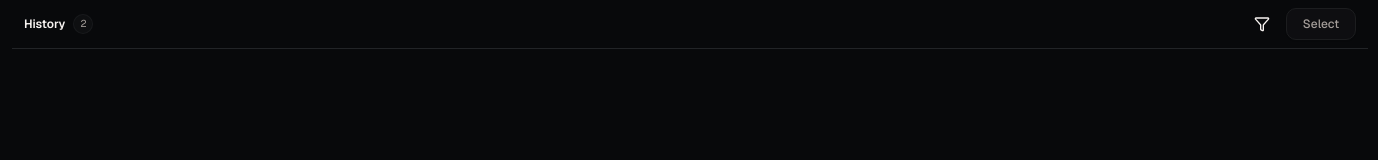
Test case: PersistentImageGallery › bulk visibility actions › disables bulk actions menu when no items selected
// Enter selection mode
What coordinates should you click on to do the following:
click the button with test id "toggle-selection"
I would click on:
 (1321, 24)
Its box is [1286,8,1356,40].
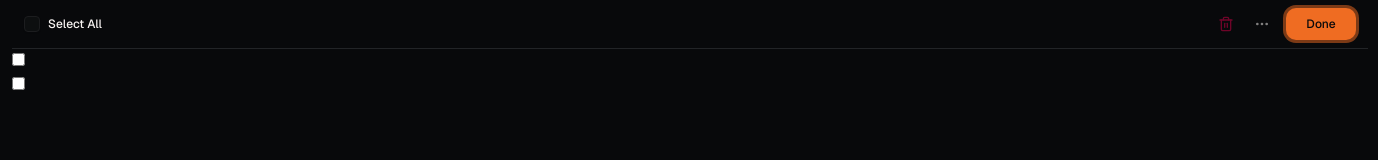
Expected: the button with test id "bulk-actions-menu" is disabled, [1246,8,1278,40]
